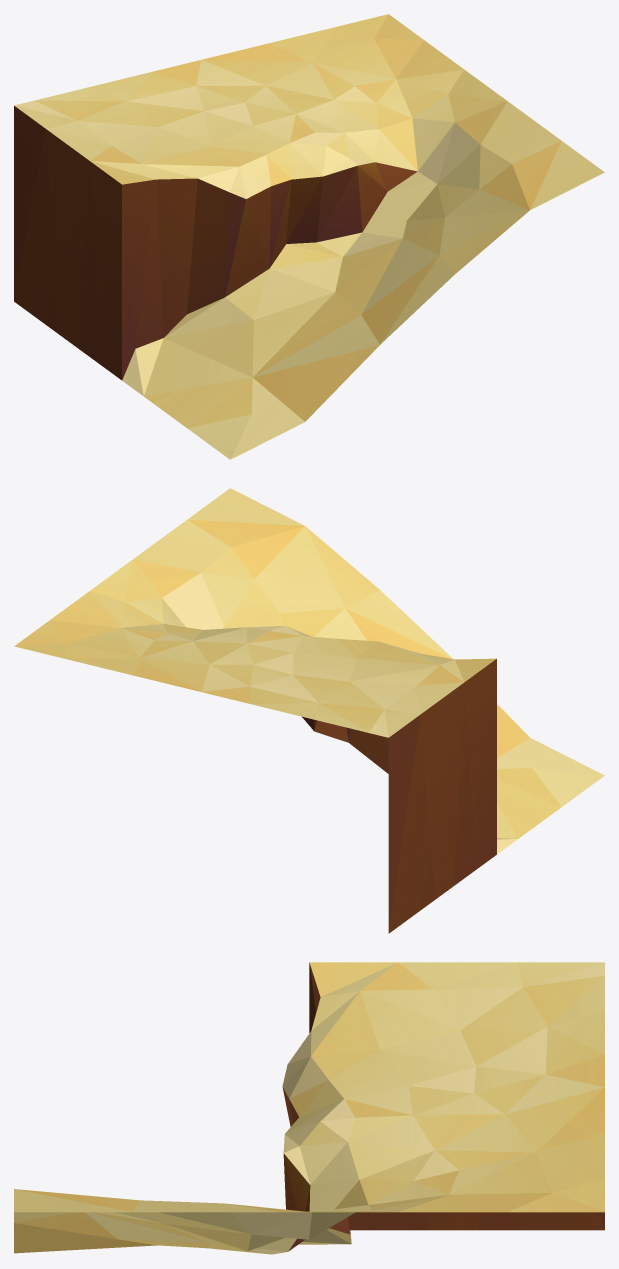
The model's file is GL-Terrain-part-19-LOD2.fbx.
3 views of the same model, one above another, from view 1: azimuth 30°, elevation 25°; view 2: azimuth 150°, elevation 25°; view 3: azimuth 270°, elevation 25° (orthographic). The views are drawn at different scales.
Parts seen in each view (by area): view 1: GL_Terrain_part_19; view 2: GL_Terrain_part_19; view 3: GL_Terrain_part_19.
Part boxes in pixels (x1,y1,x2,y2): GL_Terrain_part_19: (14, 14, 604, 459); GL_Terrain_part_19: (14, 488, 604, 933); GL_Terrain_part_19: (14, 962, 604, 1254).
Bounding box in the file's own units: 6 × 3 × 6.
